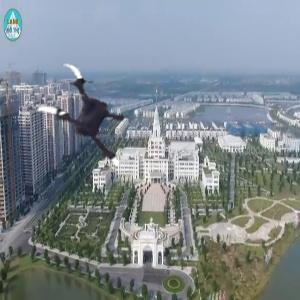drone: (20, 59, 142, 181)
